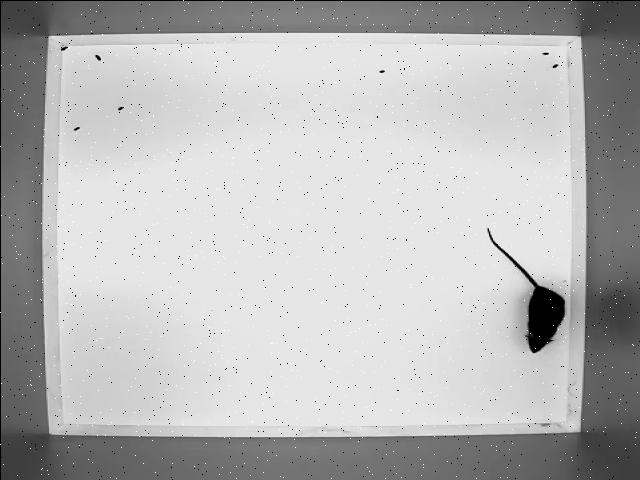Tikus: (473, 227, 567, 356)
